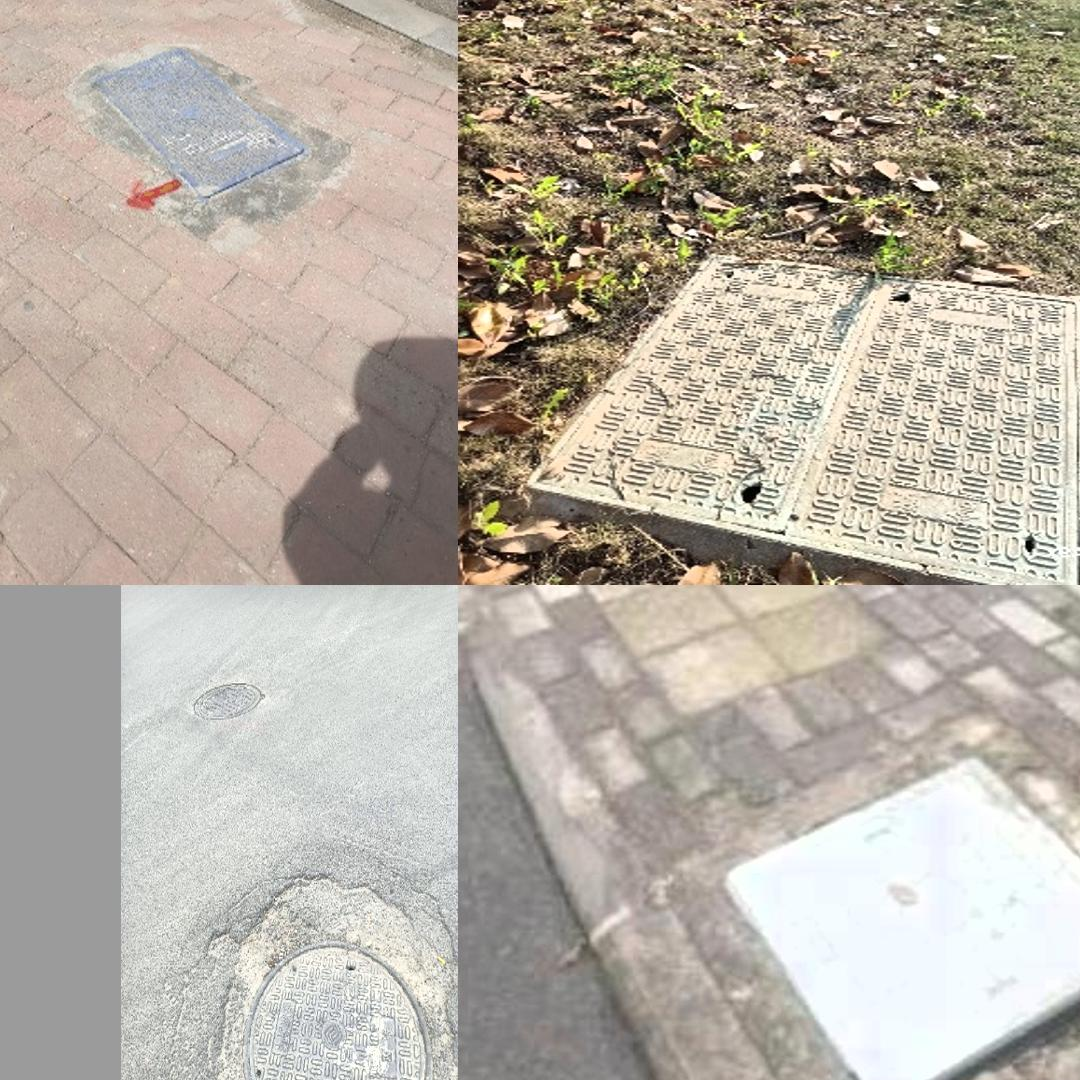good: (520, 250, 1080, 585), (713, 742, 1080, 1080), (93, 47, 310, 199), (244, 940, 433, 1080), (192, 680, 266, 722)
